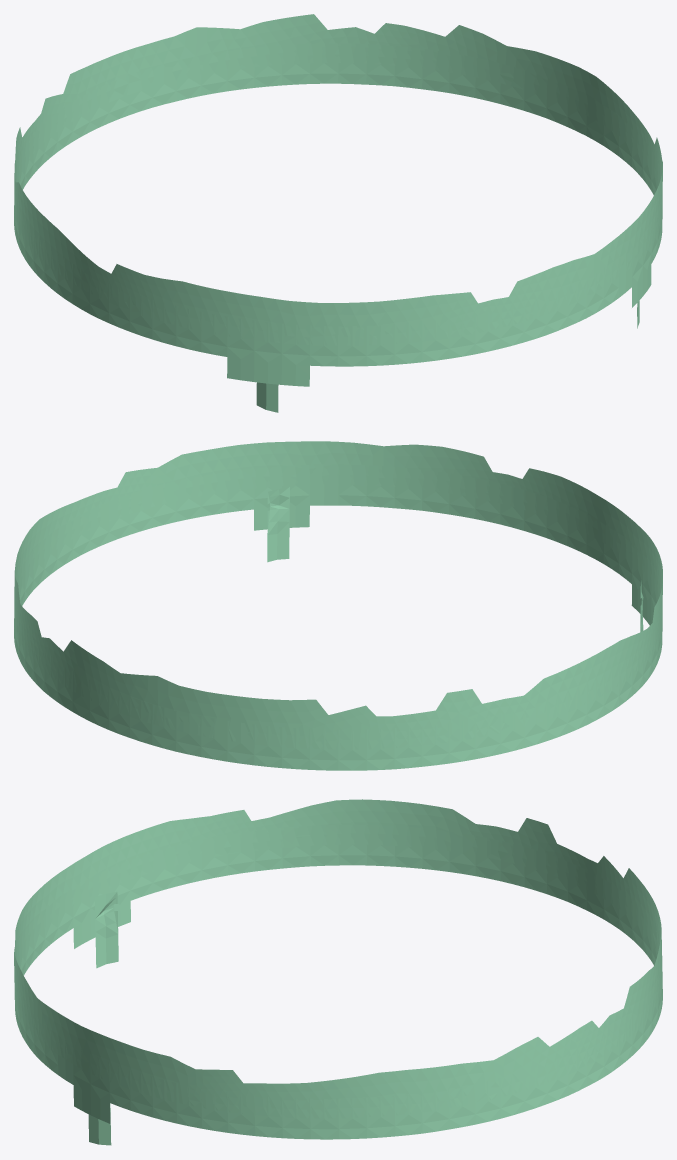
File: DT27_Rear_Upright_Assembly.glb
3 renders of one model, top to bottom at view 1: azimuth 30°, elevation 25°; view 2: azimuth 150°, elevation 25°; view 3: azimuth 270°, elevation 25°, orthographic.
Visible parts, largest first — view 1: Part 22; view 2: Part 22; view 3: Part 22.
Boxes of the visible parts, x1,y1,x2,y2 form: Part 22: (14, 14, 662, 412); Part 22: (14, 441, 662, 770); Part 22: (14, 799, 662, 1145).
Bounding box in the file's own units: 95 × 21.01 × 95.13.
